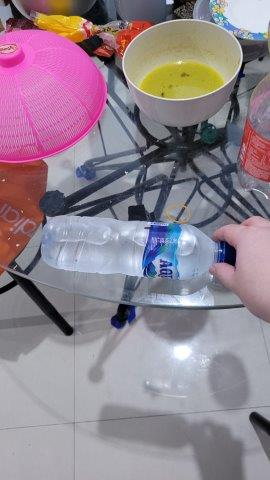botolplastik: (39, 214, 237, 279)
